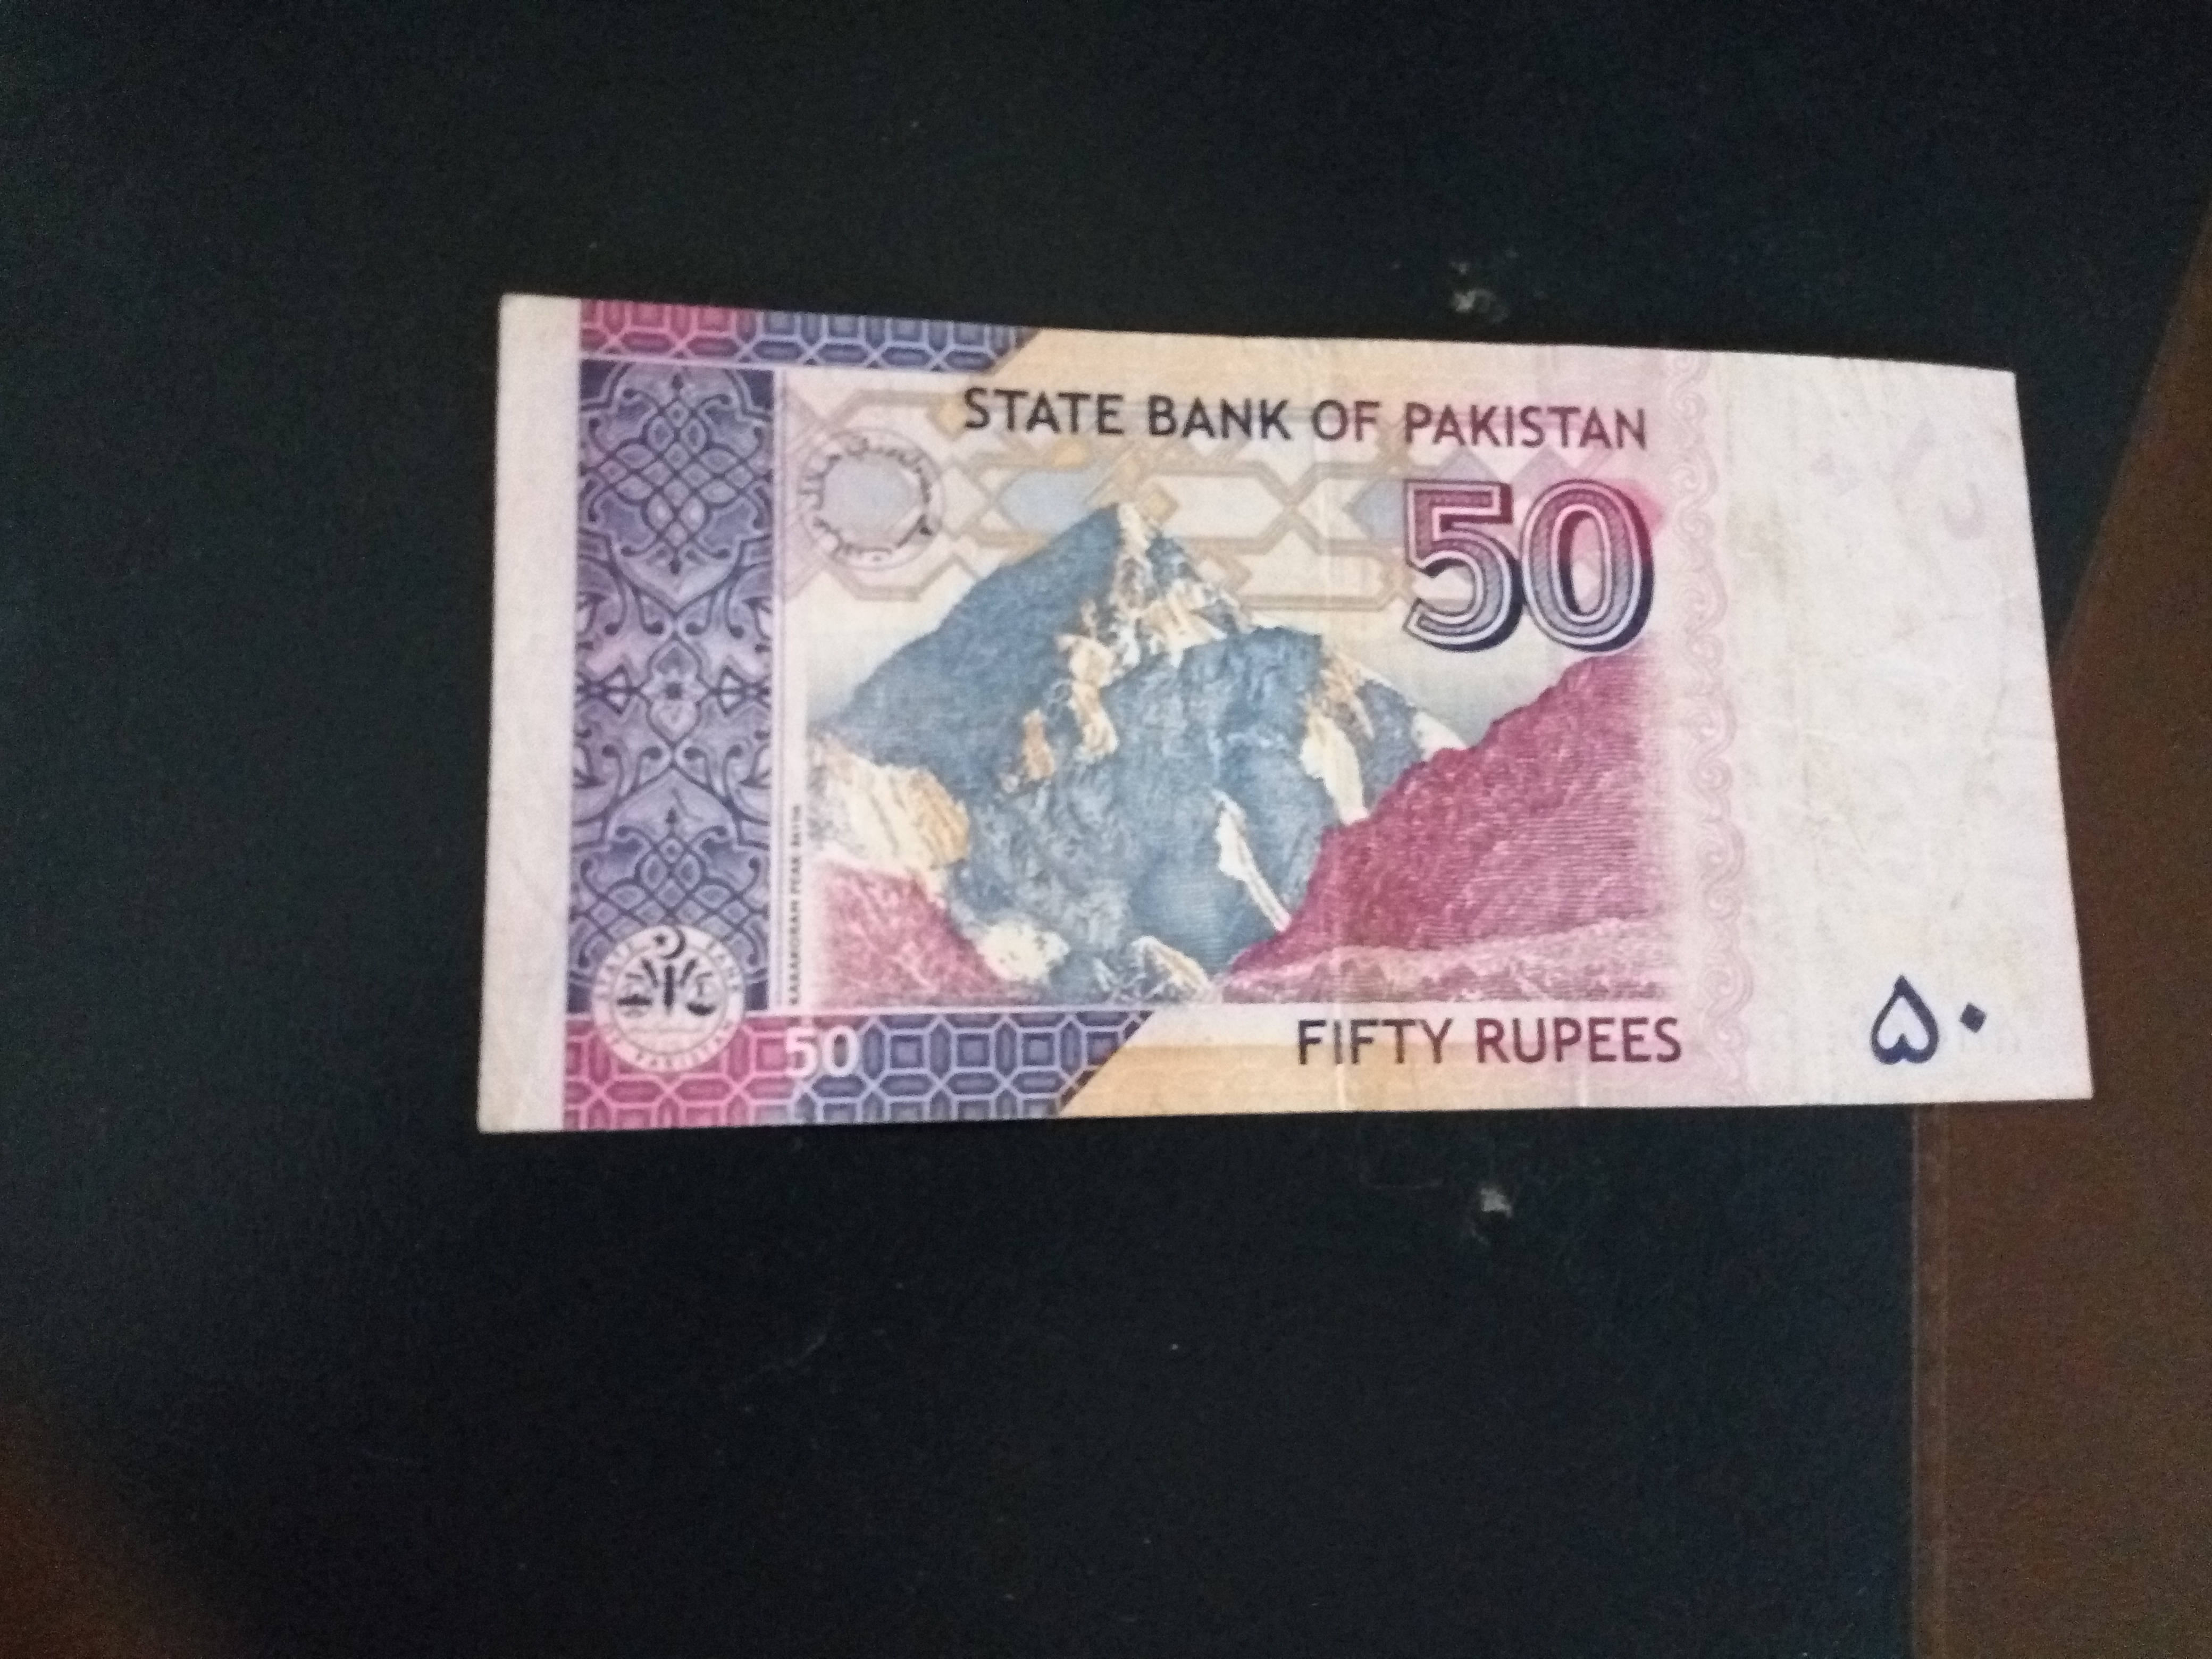50 rupee: (428, 251, 2186, 1218)
